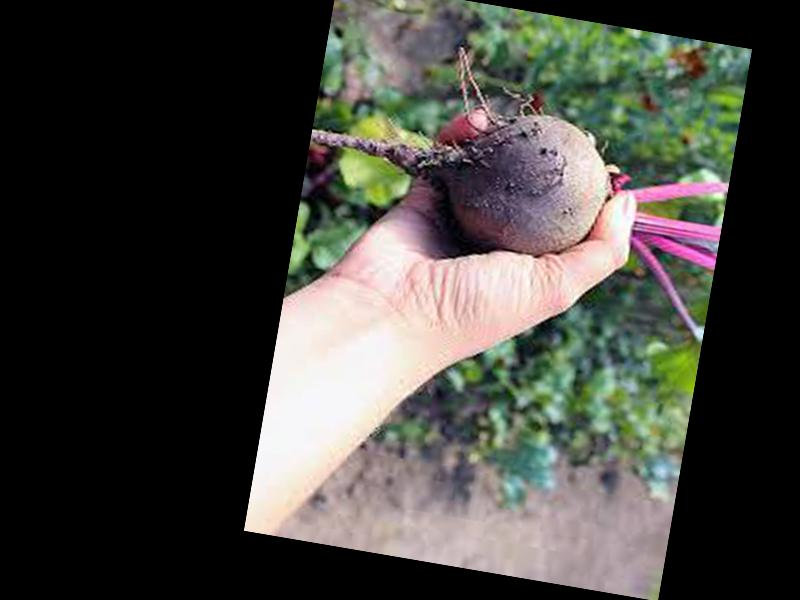Beet: (287, 22, 741, 343)
